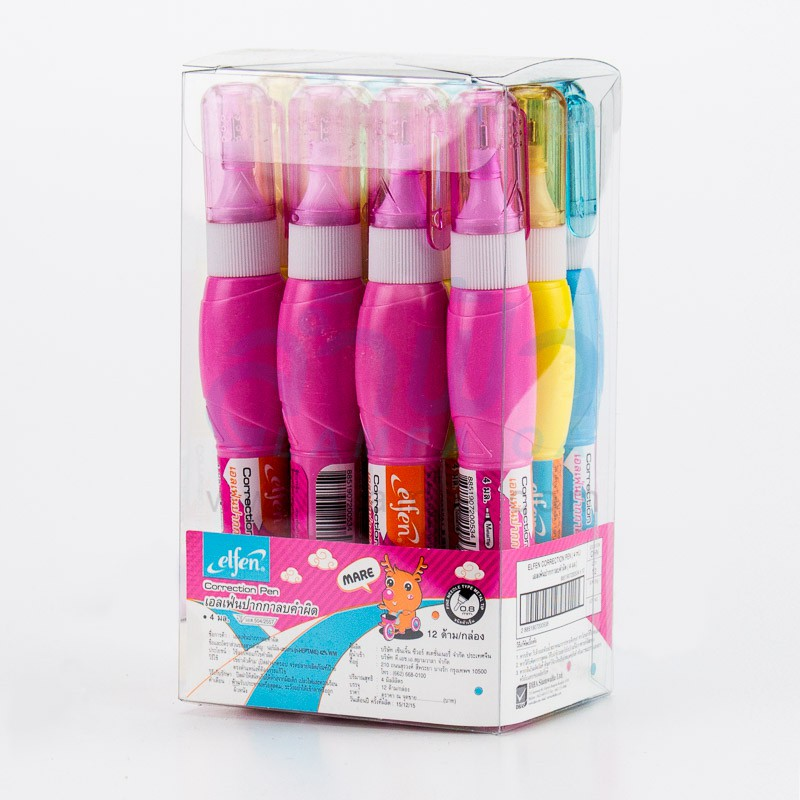Correction_fluid: (437, 85, 543, 550), (269, 76, 372, 551), (350, 84, 452, 550), (191, 74, 291, 536), (510, 79, 579, 545)
